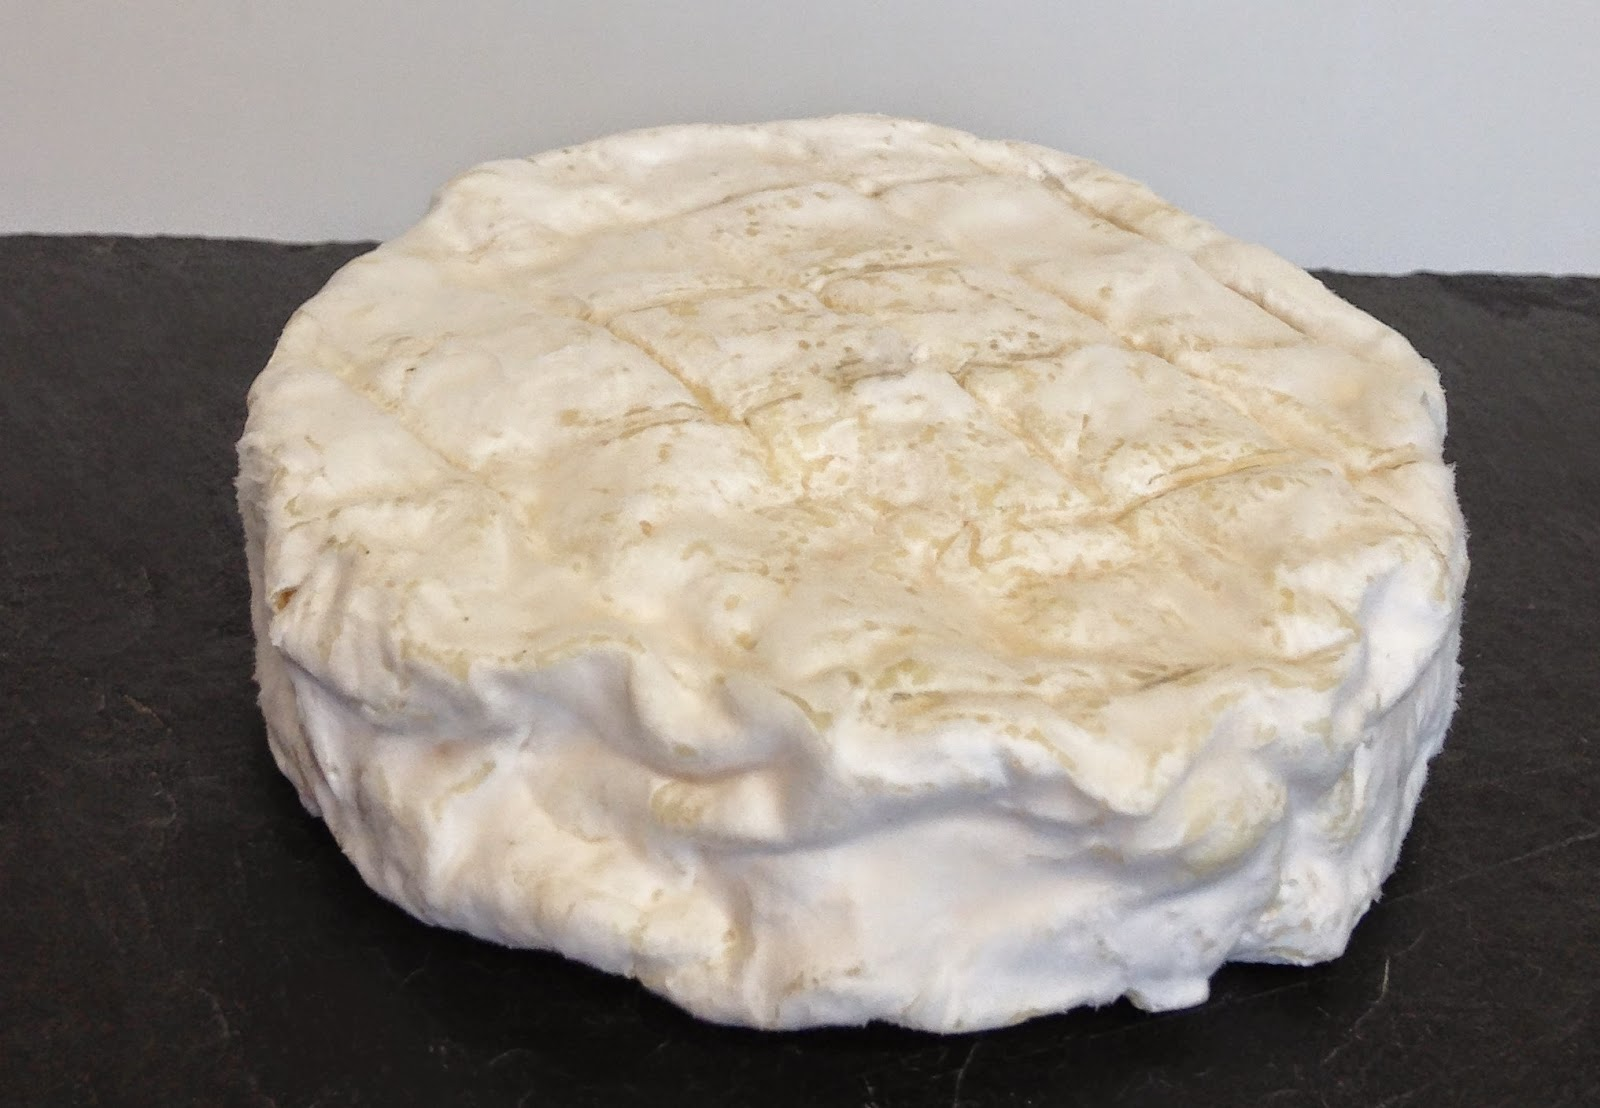camembert: (229, 116, 1475, 1039)
